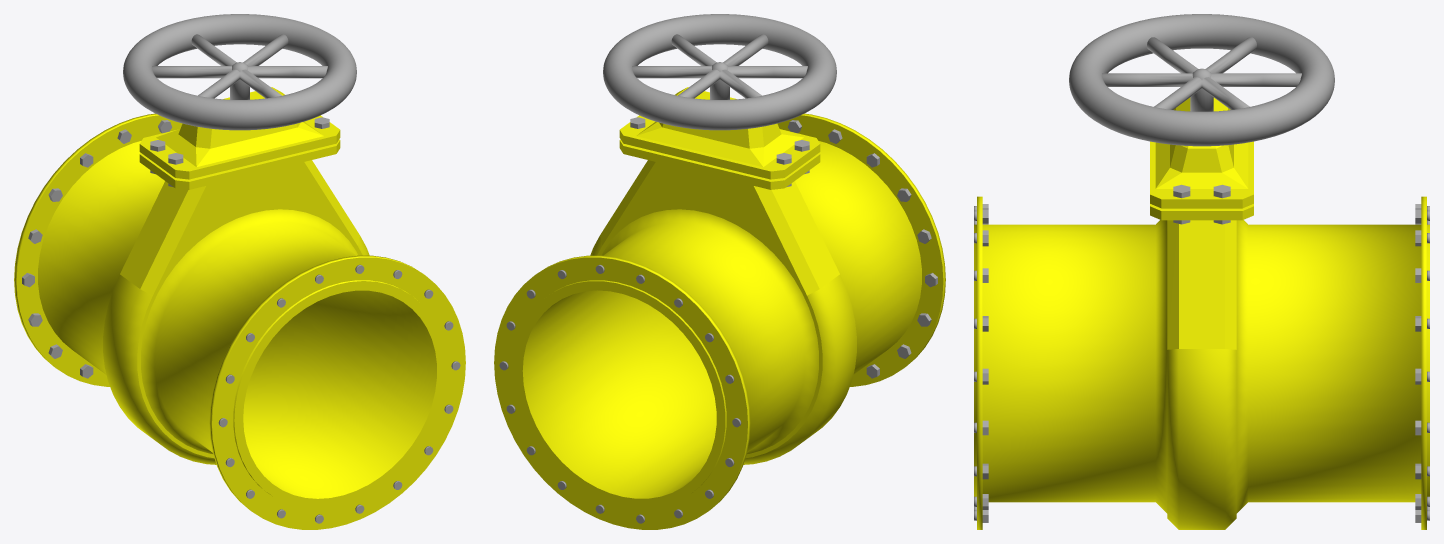
Rendered from valve.dae.
3 renders of one model, left to right at view 1: azimuth 30°, elevation 25°; view 2: azimuth 150°, elevation 25°; view 3: azimuth 270°, elevation 25°, orthographic. The views are drawn at different scales.
Parts seen in each view (by area): view 1: segment10_valve; view 2: segment10_valve; view 3: segment10_valve.
Part boxes in pixels (x1,y1,x2,y2): segment10_valve: [14, 14, 465, 529]; segment10_valve: [494, 14, 945, 529]; segment10_valve: [974, 14, 1429, 529].
Size of the model in its own units: 0.7315 by 1 by 1.09.
